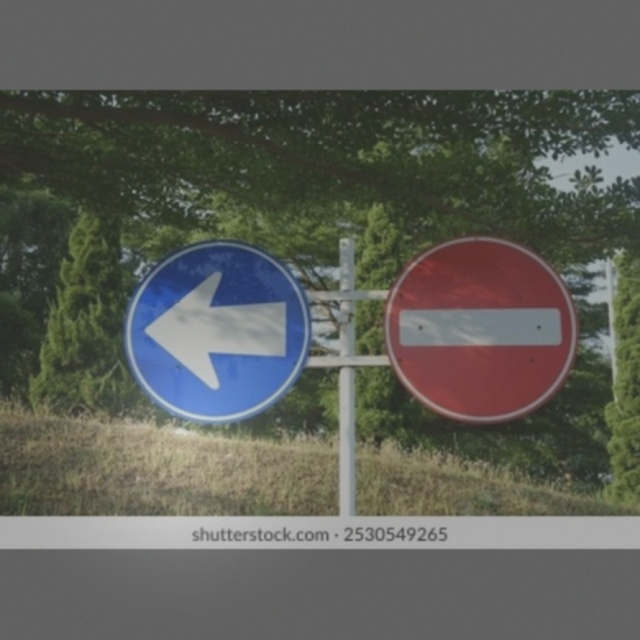Compulsory_Turn_Left: (122, 239, 311, 422)
